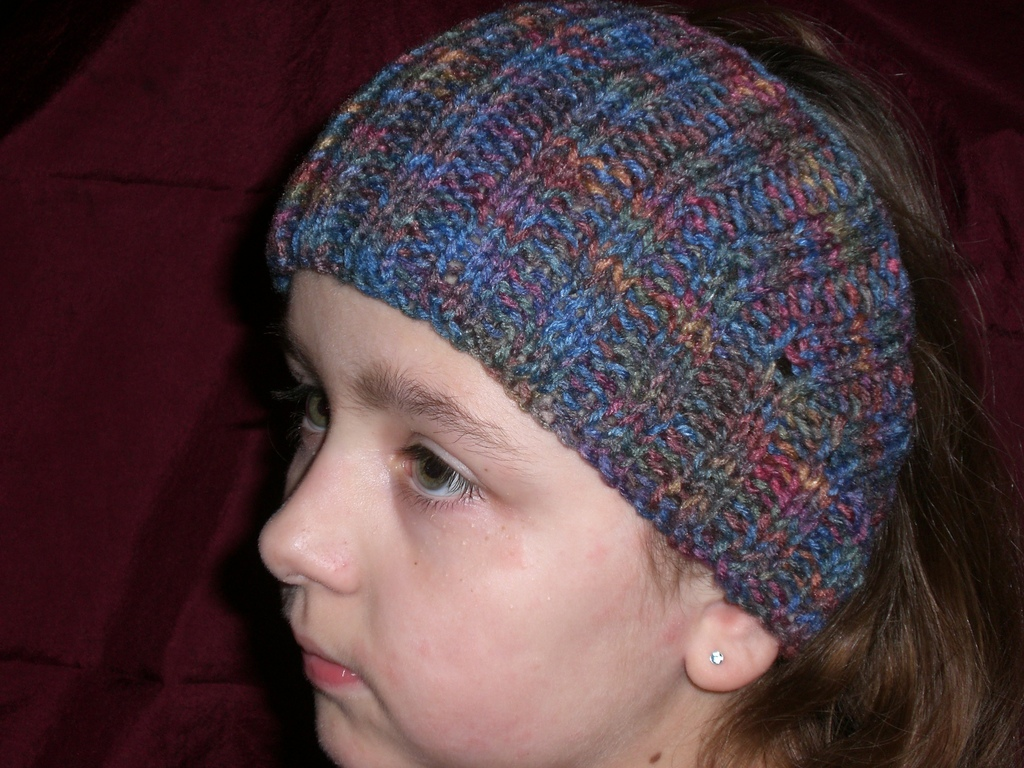Person: (255, 0, 1024, 768)
